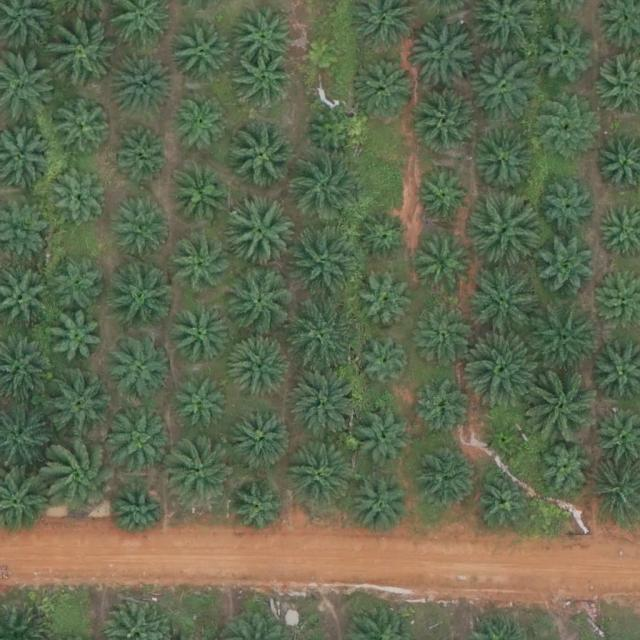Healthy: (43, 440, 121, 519), (527, 370, 598, 441), (470, 55, 541, 126), (470, 191, 541, 262), (227, 120, 298, 191), (468, 336, 538, 407), (411, 23, 482, 93), (292, 228, 362, 299), (284, 441, 354, 512), (45, 17, 115, 88), (43, 370, 113, 441), (529, 303, 599, 373), (470, 267, 540, 337), (294, 152, 364, 222), (286, 302, 356, 372), (291, 372, 361, 442), (223, 200, 293, 270), (225, 267, 295, 337), (169, 438, 239, 508), (474, 129, 537, 192), (172, 236, 235, 299), (110, 194, 173, 257), (536, 438, 598, 501), (533, 238, 595, 301), (420, 92, 482, 155), (416, 449, 478, 512), (358, 55, 420, 118), (350, 476, 412, 539), (233, 5, 295, 68), (232, 408, 294, 471), (171, 23, 233, 86), (171, 163, 233, 226), (170, 306, 232, 369), (110, 57, 172, 120), (110, 268, 172, 331), (108, 336, 170, 399), (53, 94, 115, 157), (231, 335, 293, 397), (111, 413, 173, 475), (477, 474, 532, 530), (417, 171, 472, 227), (173, 99, 228, 155), (177, 377, 232, 433), (539, 108, 594, 163), (538, 26, 593, 81), (417, 308, 472, 363), (415, 381, 470, 436), (360, 278, 415, 333), (358, 336, 413, 391), (357, 409, 412, 464), (306, 108, 361, 163), (239, 55, 294, 110), (233, 485, 288, 540), (114, 127, 169, 182), (543, 179, 597, 234), (420, 243, 474, 298), (357, 213, 411, 268), (112, 485, 166, 540), (52, 169, 106, 224), (52, 258, 106, 313), (50, 313, 104, 368)
Small: (487, 423, 527, 462)
Yellow: (306, 37, 345, 76)
